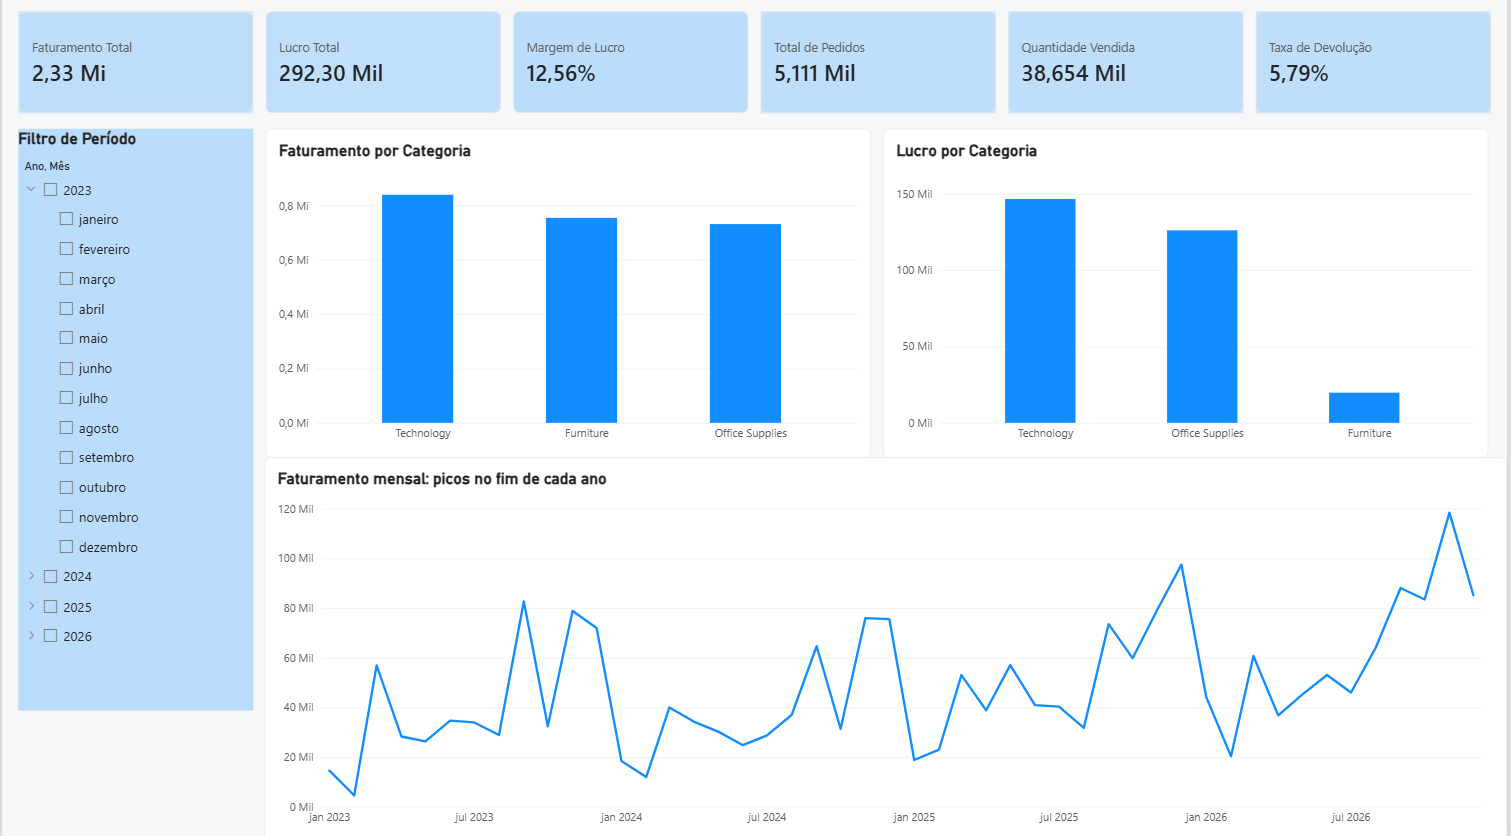

This screenshot's page, from the dashboard's own definition file:
{"tool":"powerbi","page":{"name":"Página 1","canvas":[1920,1080],"ordinal":0},"visuals":[{"type":"cardVisual","fields":{"Data":["Orders.Taxa de Devolução"]},"box":[1600,20,300,130],"z":0},{"type":"clusteredColumnChart","title":"Faturamento por Categoria","fields":{"Category":["Orders.Category"],"Y":["Orders.Faturamento Total"]},"box":[336,170,772,420],"z":1000},{"type":"clusteredColumnChart","title":"Lucro por Categoria","fields":{"Category":["Orders.Category"],"Y":["Orders.Lucro Total"]},"box":[1124,170,772,420],"z":2000},{"type":"lineChart","title":"Faturamento mensal: picos no fim de cada ano","fields":{"Category":["Orders.Order Date.Variação.Hierarquia de datas.Ano","Orders.Order Date.Variação.Hierarquia de datas.Mês"],"Y":["Orders.Faturamento Total"]},"box":[334.6,590.4,1584.6,490.4],"z":3000},{"type":"slicer","title":"Filtro de Período","fields":{"Values":["Orders.Order Date.Variação.Hierarquia de datas.Ano","Orders.Order Date.Variação.Hierarquia de datas.Mês"]},"box":[20,170,300,742],"z":4000},{"type":"cardVisual","fields":{"Data":["Orders.Faturamento Total"]},"box":[20,20,300,130],"z":5000},{"type":"cardVisual","fields":{"Data":["Orders.Lucro Total"]},"box":[336,20,300,130],"z":6000},{"type":"cardVisual","fields":{"Data":["Orders.Total de Pedidos"]},"box":[968,20,300,130],"z":7000},{"type":"cardVisual","fields":{"Data":["Orders.Quantidade Vendida"]},"box":[1284,20,300,130],"z":8000},{"type":"cardVisual","fields":{"Data":["Orders.Margem de Lucro"]},"box":[652,20.2,300,130],"z":9000}]}

Visuals, with their boxes in screenshot pixels (x1, y1, x2, y2), scaled from the page's 1920x1080 canvas onto the 1511x836 screenshot:
cardVisual - Orders.Taxa de Devolução: bbox(1259, 15, 1495, 116)
"Faturamento por Categoria" clusteredColumnChart: bbox(264, 132, 872, 457)
"Lucro por Categoria" clusteredColumnChart: bbox(885, 132, 1492, 457)
"Faturamento mensal: picos no fim de cada ano" lineChart: bbox(263, 457, 1510, 835)
"Filtro de Período" slicer: bbox(16, 132, 252, 706)
cardVisual - Orders.Faturamento Total: bbox(16, 15, 252, 116)
cardVisual - Orders.Lucro Total: bbox(264, 15, 501, 116)
cardVisual - Orders.Total de Pedidos: bbox(762, 15, 998, 116)
cardVisual - Orders.Quantidade Vendida: bbox(1010, 15, 1247, 116)
cardVisual - Orders.Margem de Lucro: bbox(513, 16, 749, 116)
